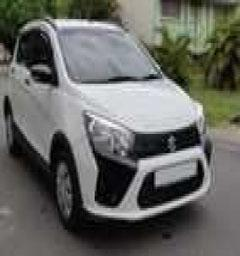car: (1, 10, 230, 240)
